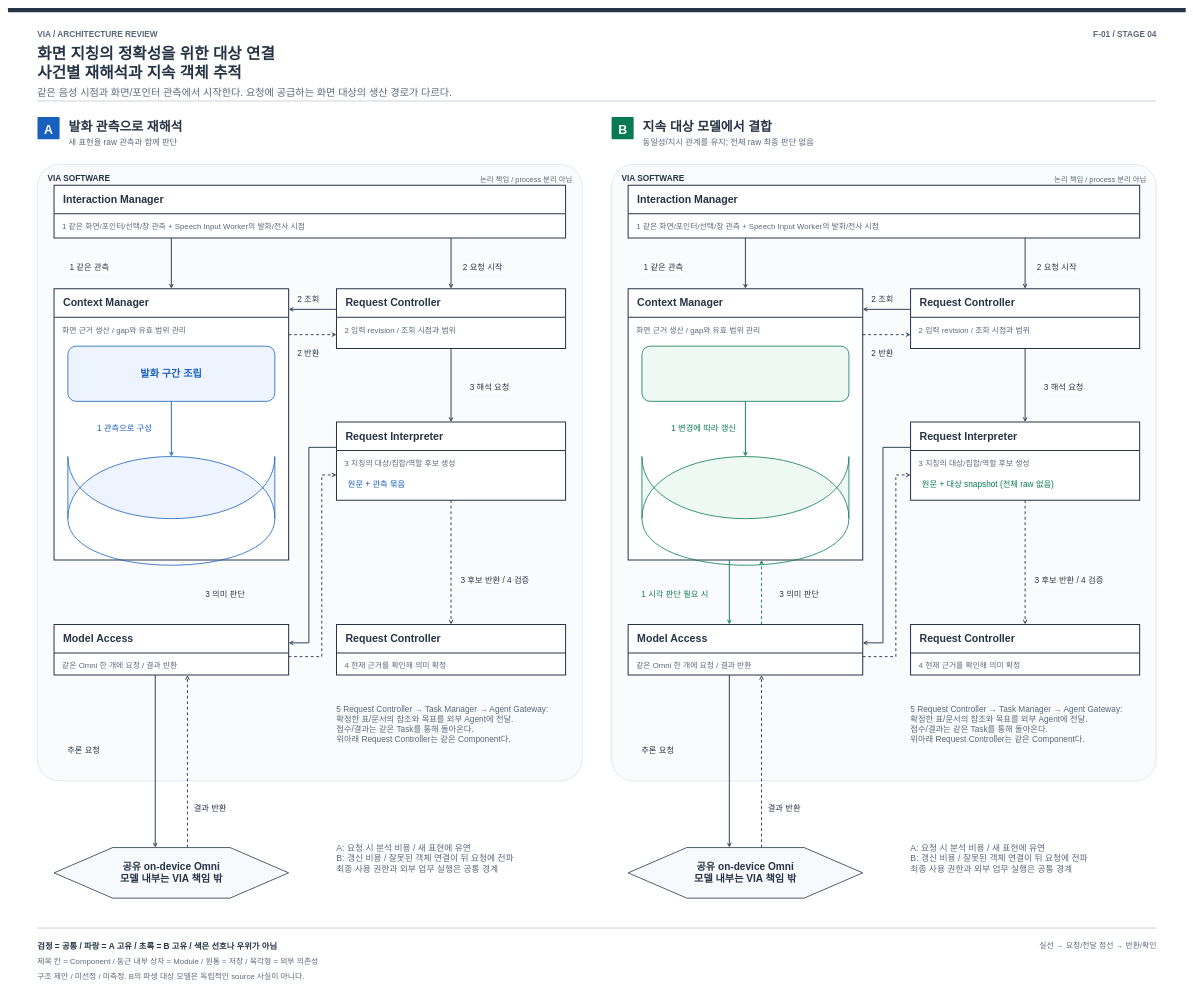
Some shapes in this 1193 by 991 pixel diagram are drawn without their labels. Here are the shapes that lost their labels. From the top down, the centre of each, then its label:
At (745,374): "객체 추적 / 지시 관계".
At (171,487): "요청 관측 묶음 (RAM) 화면 조각과 포인터/선택 시점".
At (745,487): "대상 모델 / 시점 snapshot (RAM) 객체 ID, 관계, revision과 불확실성".
